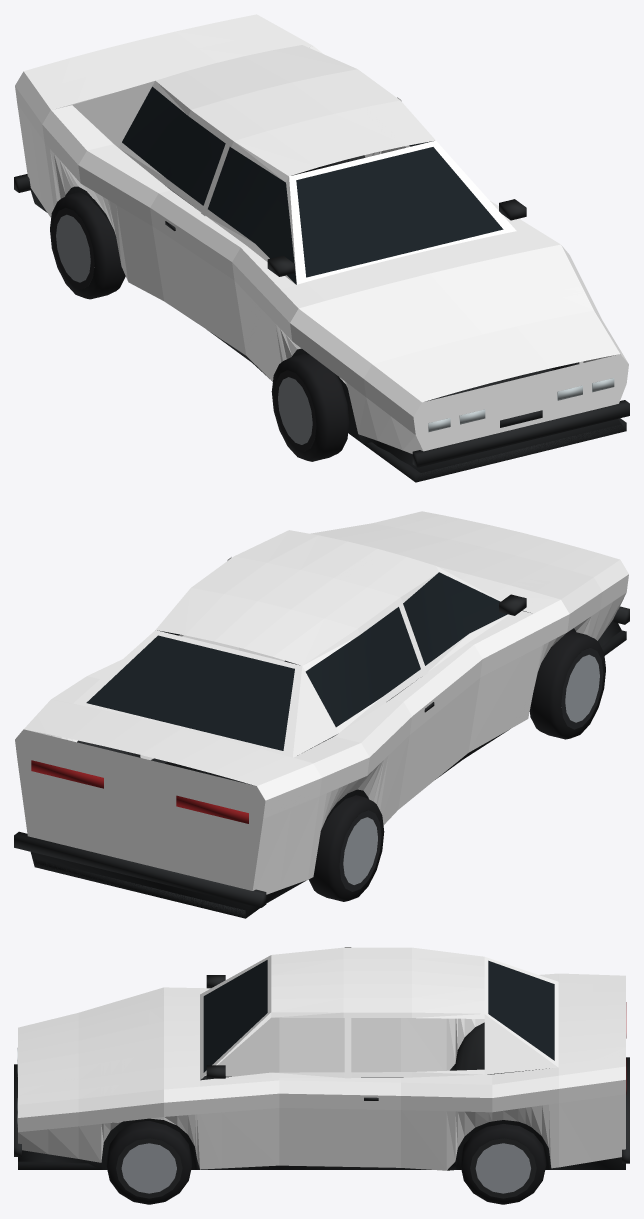
Rendered from dunmere_fornada.glb.
3 renders of one model, top to bottom at view 1: azimuth 30°, elevation 25°; view 2: azimuth 150°, elevation 25°; view 3: azimuth 270°, elevation 25°, orthographic. The views are drawn at different scales.
Parts seen in each view (by area): view 1: Body_Paint, Body_Details, Mount_FrontLeft_Wheel_Details, Mount_RearLeft_Wheel_Details; view 2: Body_Paint, Body_Details, Mount_FrontLeft_Wheel_Details, Mount_RearLeft_Wheel_Details; view 3: Body_Paint, Body_Details, Mount_FrontRight_Wheel_Details, Mount_RearRight_Wheel_Details.
Boxes of the visible parts, left/top/right/bottom form: Body_Paint: left=15, top=14, right=628, bottom=453; Body_Details: left=14, top=86, right=629, bottom=482; Mount_FrontLeft_Wheel_Details: left=271, top=354, right=349, bottom=461; Mount_RearLeft_Wheel_Details: left=50, top=192, right=125, bottom=299; Body_Paint: left=15, top=511, right=628, bottom=894; Body_Details: left=14, top=572, right=629, bottom=918; Mount_FrontLeft_Wheel_Details: left=529, top=631, right=605, bottom=739; Mount_RearLeft_Wheel_Details: left=308, top=795, right=384, bottom=901; Body_Paint: left=18, top=947, right=625, bottom=1170; Body_Details: left=14, top=960, right=629, bottom=1170; Mount_FrontRight_Wheel_Details: left=106, top=1121, right=191, bottom=1204; Mount_RearRight_Wheel_Details: left=460, top=1124, right=546, bottom=1204.
Size of the model in its own units: 1.85 by 1.32 by 4.24.
Materials: 2 (1 with a texture image).
